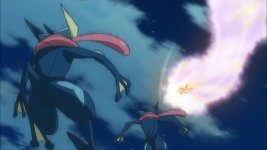greninja: (7, 6, 136, 148), (111, 100, 192, 150)
